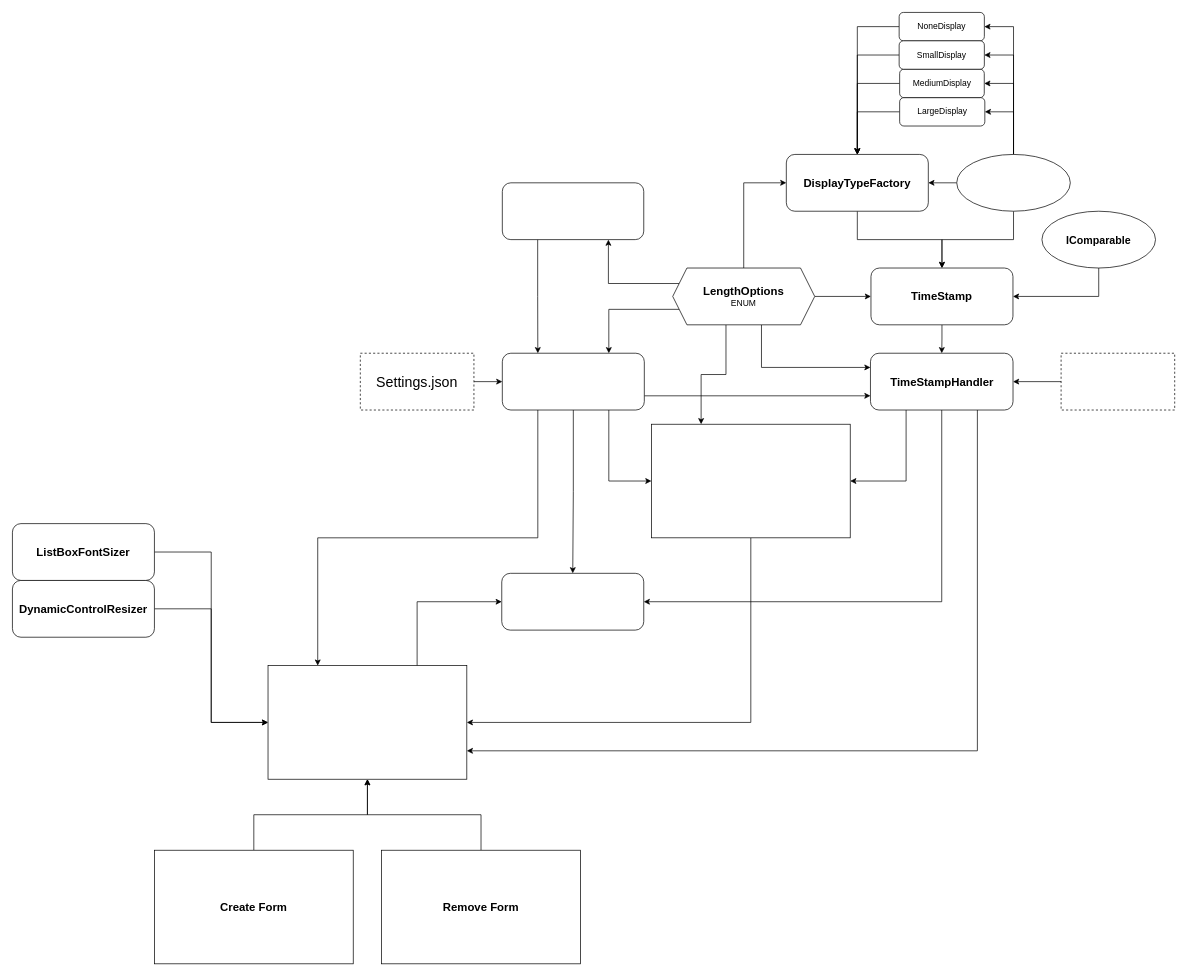
This 1187x976 diagram has some shape labels left out. The shapes that lost their labels are listed below. From the top down, each one's box as (x1, y1, x2, y2) in pixels, then its label:
(956, 154, 1070, 211): I TimeStampInfo
(502, 182, 644, 240): UserSettingsDto
(502, 353, 644, 410): UserSettings
(1060, 353, 1175, 410): Data.csv
(651, 424, 850, 538): Settings Form
(501, 573, 644, 630): Program
(267, 665, 467, 779): Home Form
